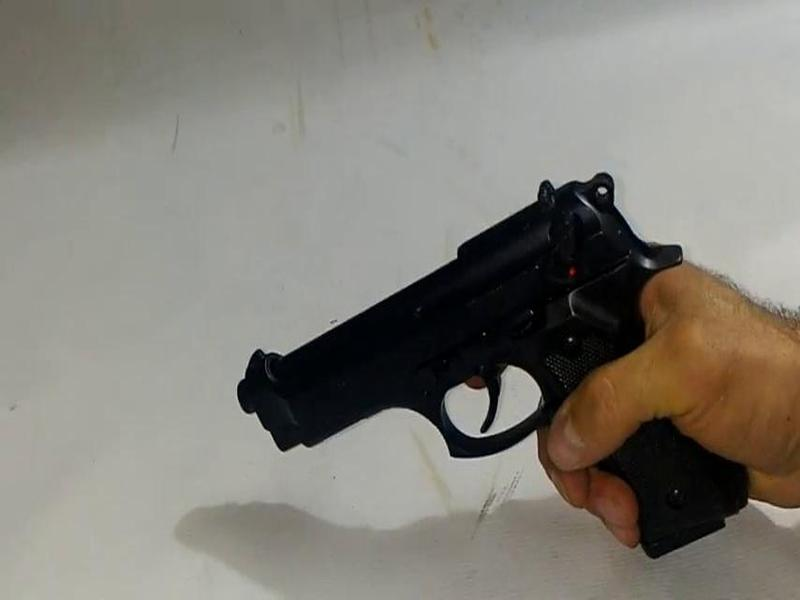Pistola: (211, 151, 758, 551)
